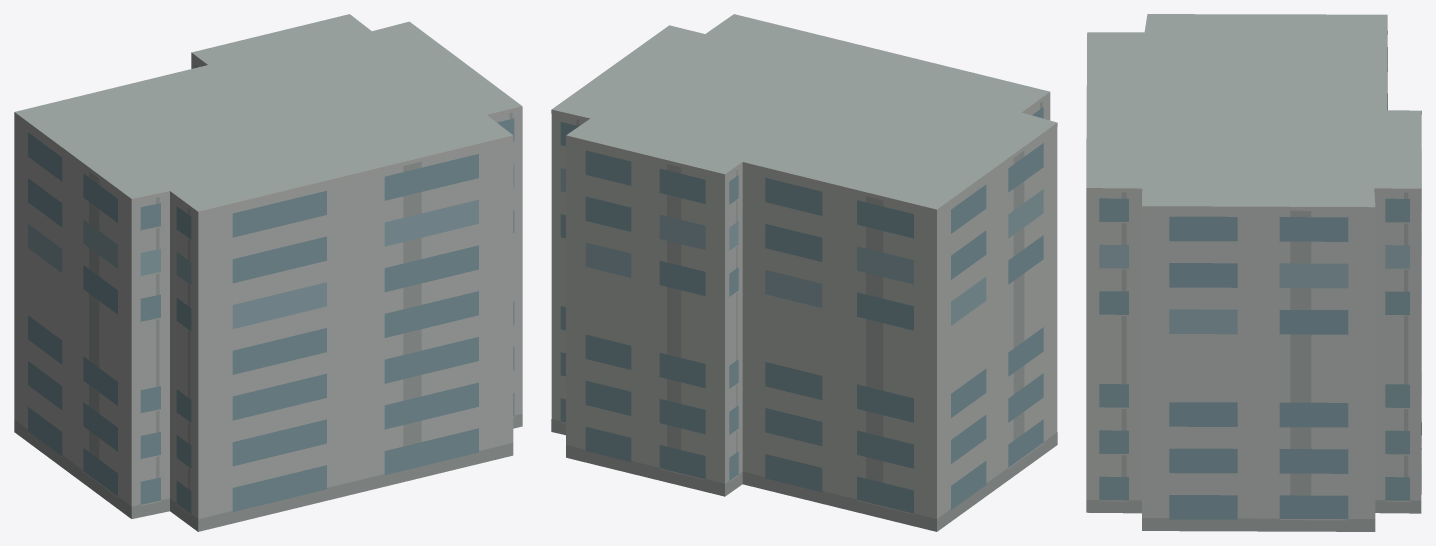
The model's file is survey-upis-32803265.glb.
3 renders of one model, left to right at view 1: azimuth 30°, elevation 25°; view 2: azimuth 150°, elevation 25°; view 3: azimuth 270°, elevation 25°, orthographic.
Visible parts, largest first — view 1: survey-upis-32803265.tmp; view 2: survey-upis-32803265.tmp; view 3: survey-upis-32803265.tmp.
Boxes of the visible parts, x1=… form: survey-upis-32803265.tmp: x1=14, y1=14, x2=522, y2=531; survey-upis-32803265.tmp: x1=551, y1=14, x2=1057, y2=531; survey-upis-32803265.tmp: x1=1086, y1=14, x2=1421, y2=531.
Size of the model in its own units: 25.46 by 19.95 by 18.7.
